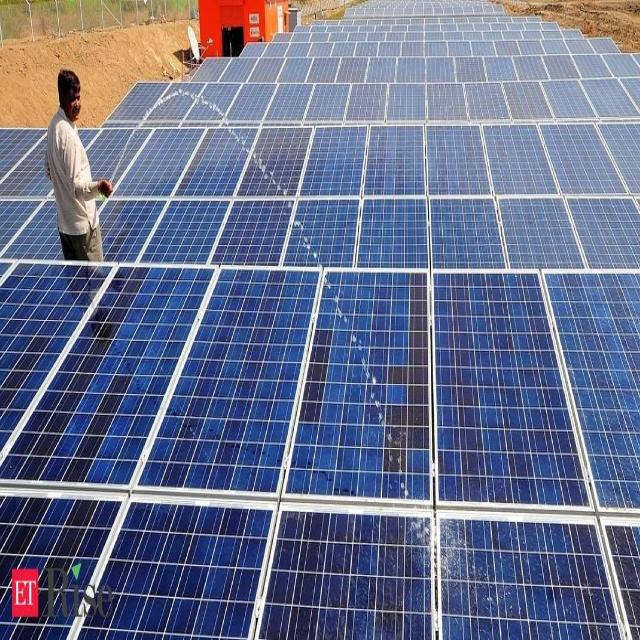clean-solar-panel: (1, 2, 640, 639)
